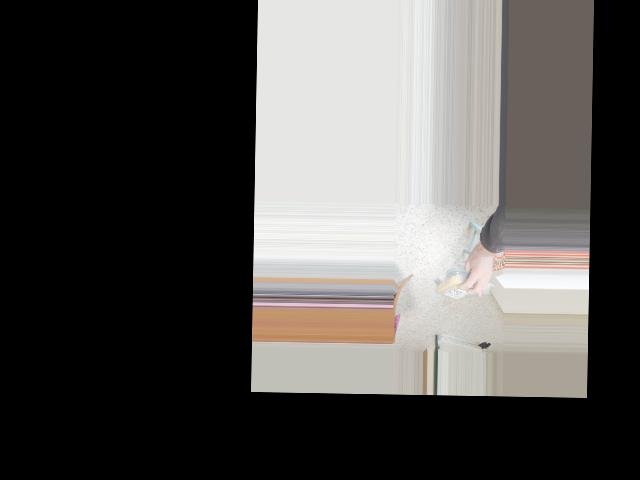cheese: (434, 272, 486, 299)
